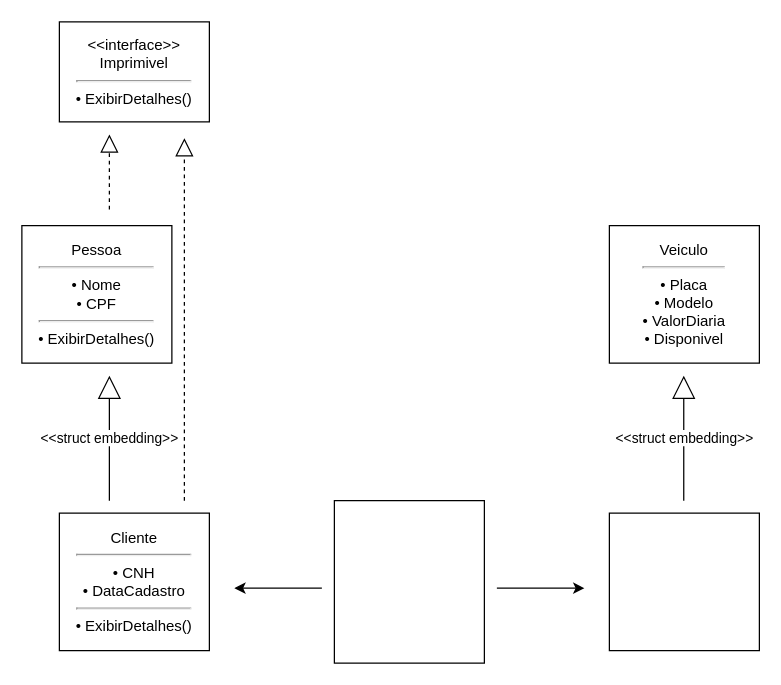
This 781x685 diagram has some shape labels left out. Here are the shapes that lost their labels. From the top down, the centre of each, then its label:
(x=408, y=581): Locacao • Dias • ValorPago • Ativo • ExibirDetalhes() • Devolucao()
(x=683, y=581): Carro • Categoria • PortaMala
